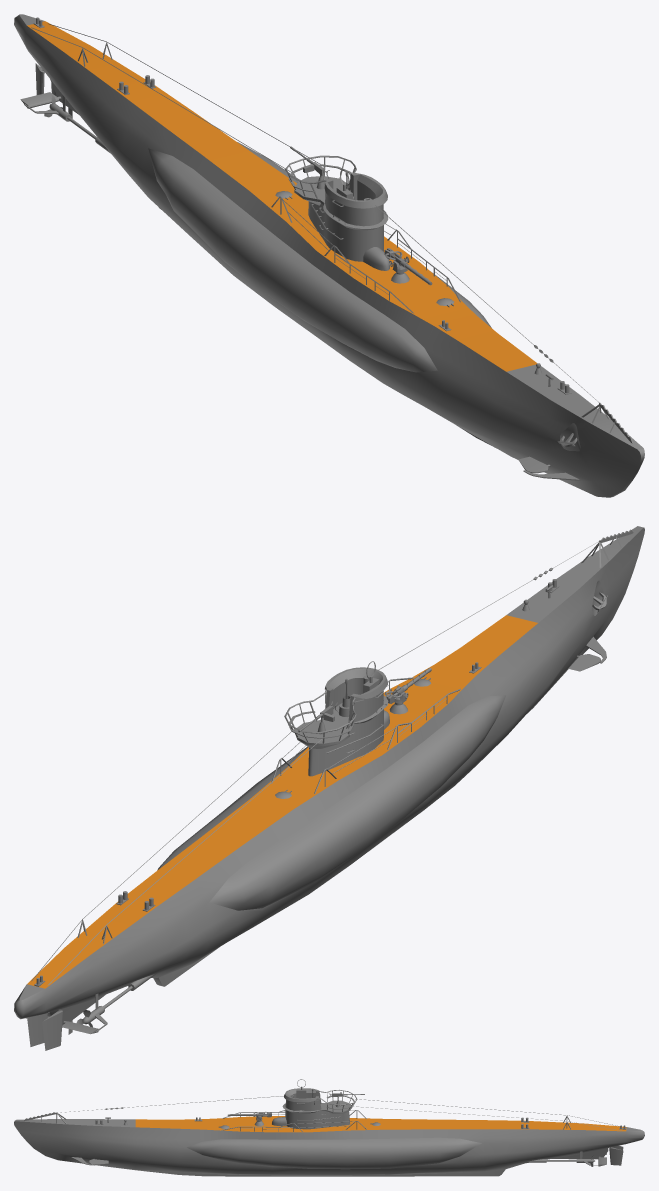
The model's file is submarine.glb.
3 views of the same model, one above another, from view 1: azimuth 30°, elevation 25°; view 2: azimuth 150°, elevation 25°; view 3: azimuth 270°, elevation 25° (orthographic). The views are drawn at different scales.
Visible parts, largest first — view 1: U-boat, deck; view 2: U-boat, deck; view 3: U-boat, deck, left rudder.
Part boxes in pixels (x1,y1,x2,y2): U-boat: (14, 14, 644, 497); deck: (27, 21, 536, 371); U-boat: (14, 526, 644, 1034); deck: (27, 615, 537, 988); U-boat: (14, 1079, 644, 1176); deck: (135, 1116, 626, 1132); left rudder: (609, 1147, 623, 1165).
Bounding box in the file's own units: 6.13 × 9.17 × 56.27.
